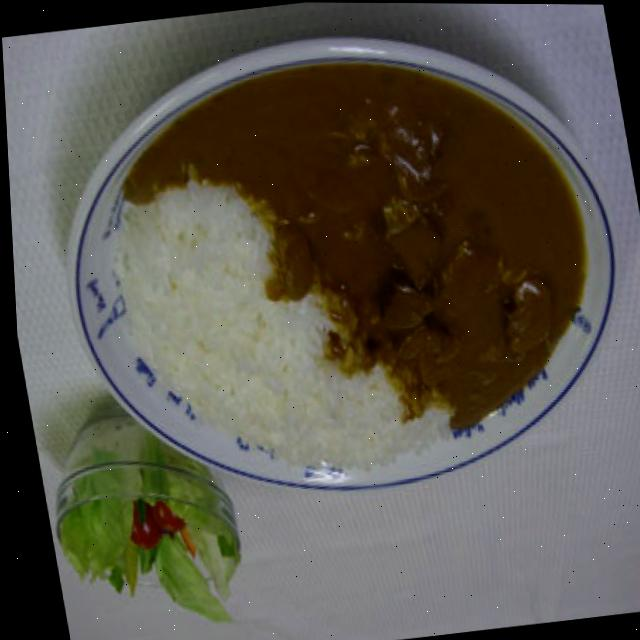牛肉菜式: (0, 0, 630, 396)
